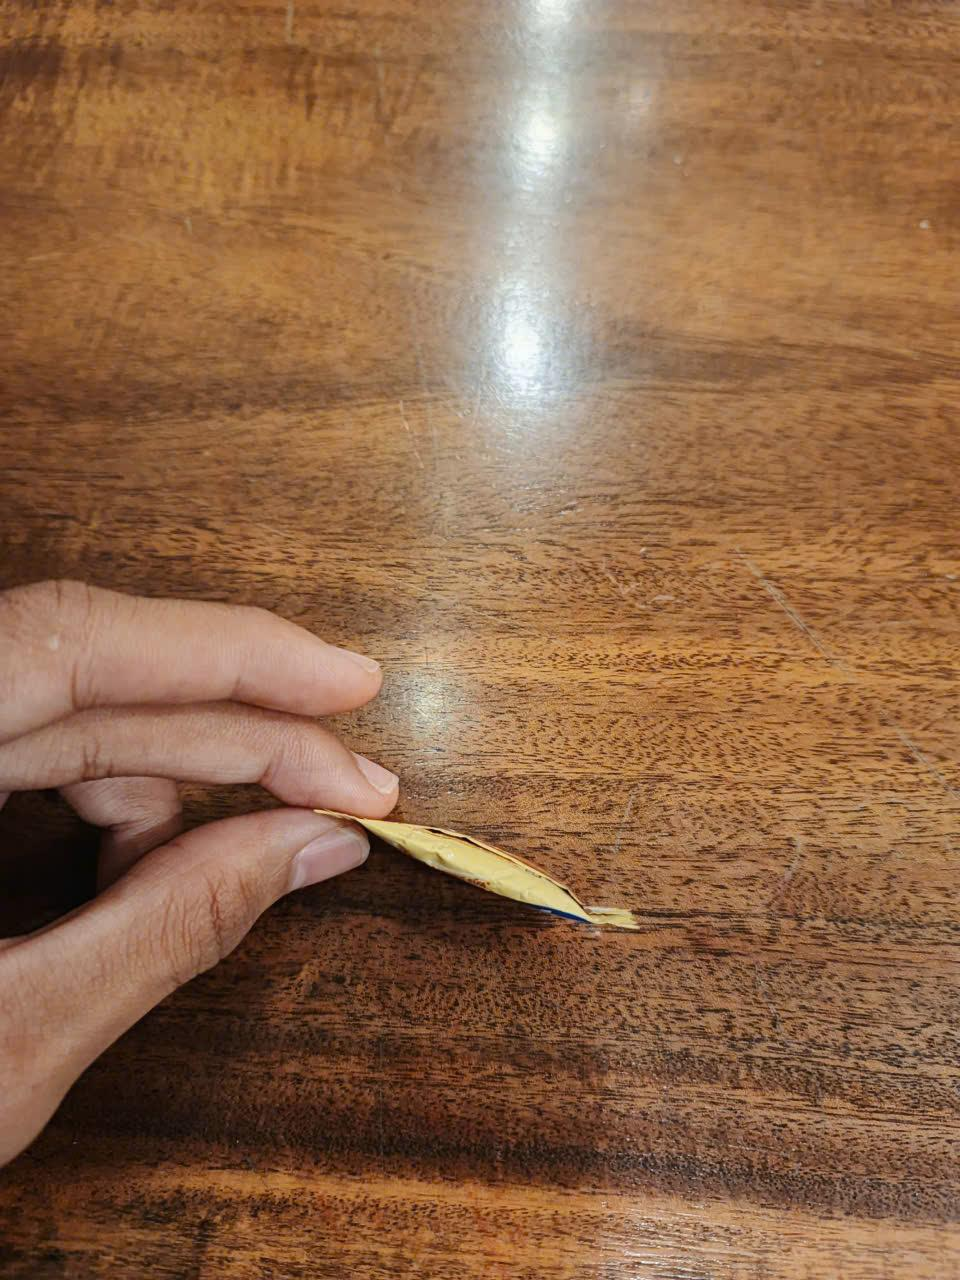Con lai: (310, 805, 648, 940)
